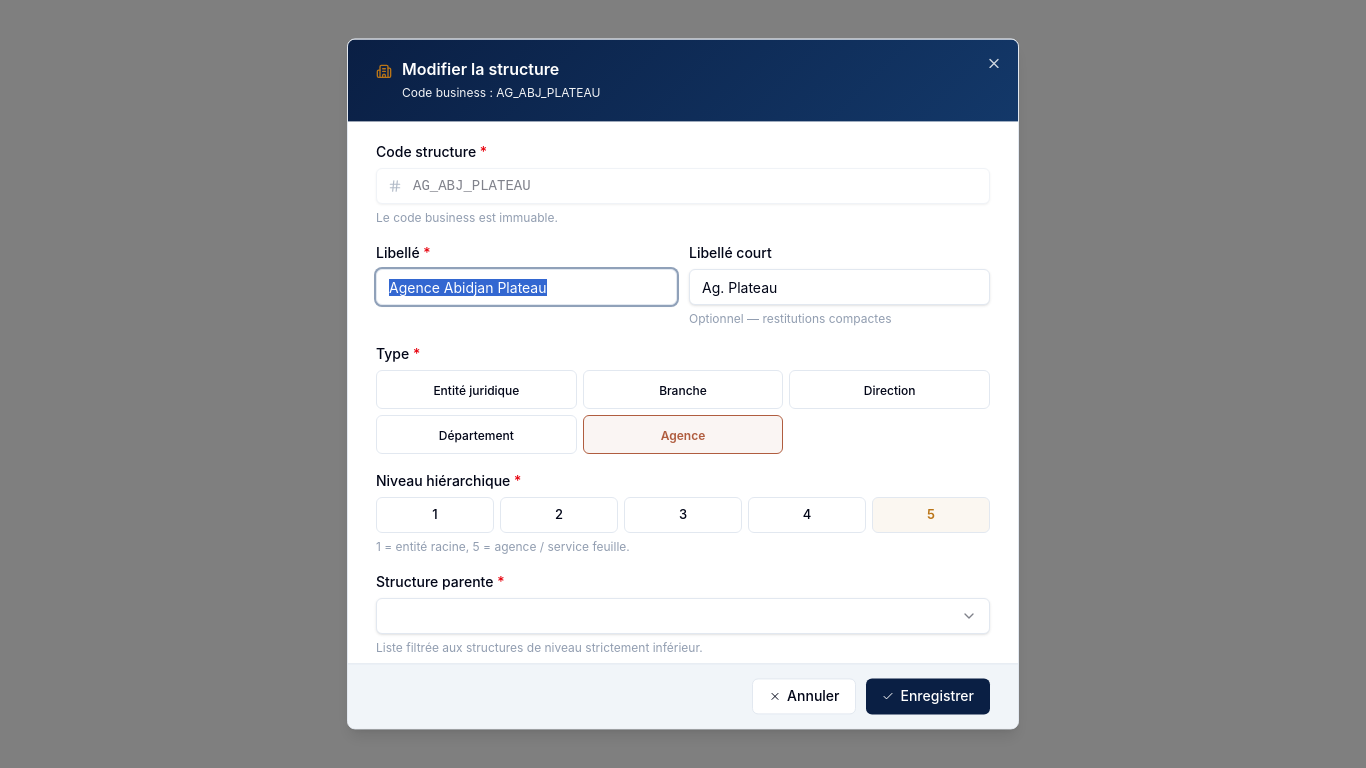
Test: StructureFormDrawer › mode edit : code en lecture seule + bandeau SCD2 contextuel après modification
This screenshot has width=1366, height=768.
Expected: the heading "Modifier la structure" is shown, [402, 59, 559, 79]
Expected: the field labelled "Code structure *" is disabled, [376, 168, 990, 204]
# Quand on modifie le libellé → bandeau jaune apparaît.
Replace the text in the field labelled "Libellé *" with "Agence rénovée" at (526, 287), box [376, 269, 677, 305]
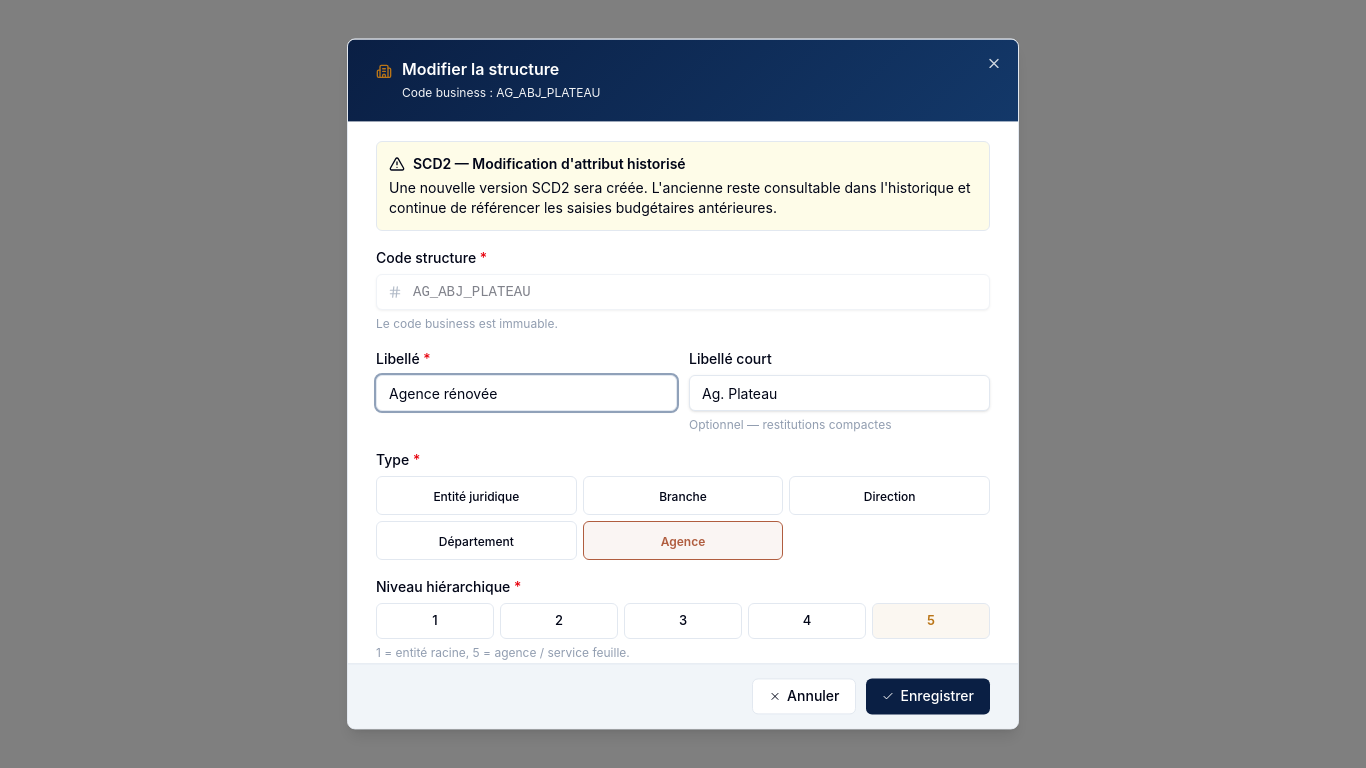
Expected: the text "SCD2 — Modification d'attribut historisé" is shown, [389, 155, 686, 172]
